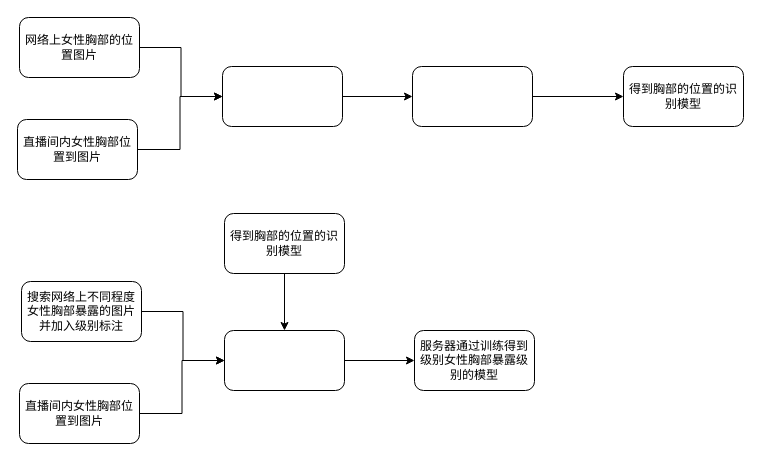
Some shapes in this 761 by 461 pixel diagram are drawn without their labels. The shapes that lost their labels are listed below. From the top down, each one's centre as x and y in pixels, then its label:
pixel 282 96: 服务器进行人体躯干神经网络识别
pixel 472 96: 服务器进行物体切割识别定位到神经我哪里过识别
pixel 284 360: 切割得到胸部的位置信息和大小截图
